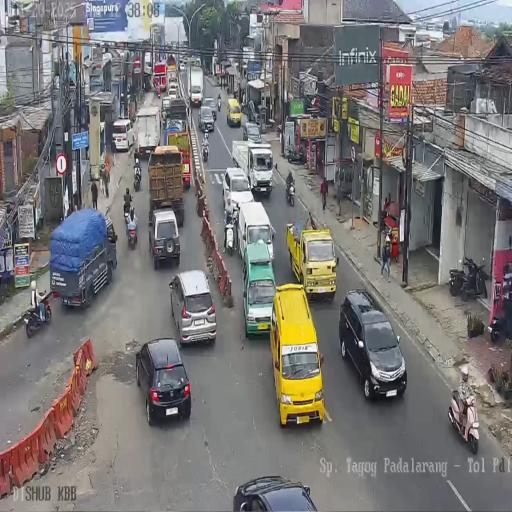3: (49, 210, 114, 310), (232, 140, 273, 201), (164, 124, 191, 192), (134, 106, 160, 159), (188, 64, 204, 108), (153, 61, 168, 95)
car: (274, 286, 328, 427), (342, 290, 408, 402), (135, 339, 192, 426), (169, 270, 217, 348), (232, 474, 317, 512), (236, 200, 273, 268), (149, 206, 180, 266), (111, 118, 135, 154), (198, 105, 216, 133), (243, 121, 262, 144), (226, 98, 241, 127), (161, 96, 171, 124), (120, 89, 130, 112), (167, 119, 183, 133), (167, 82, 178, 100), (180, 62, 186, 72)
truck: (448, 382, 479, 454), (448, 256, 487, 302), (25, 288, 53, 338), (488, 310, 504, 342), (286, 144, 305, 165), (285, 176, 295, 206), (133, 160, 141, 190), (202, 136, 209, 163), (276, 124, 282, 138), (217, 97, 221, 111)
